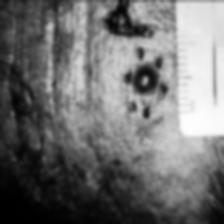Potentially Malignant Skin Tumors: (135, 64, 158, 93)
